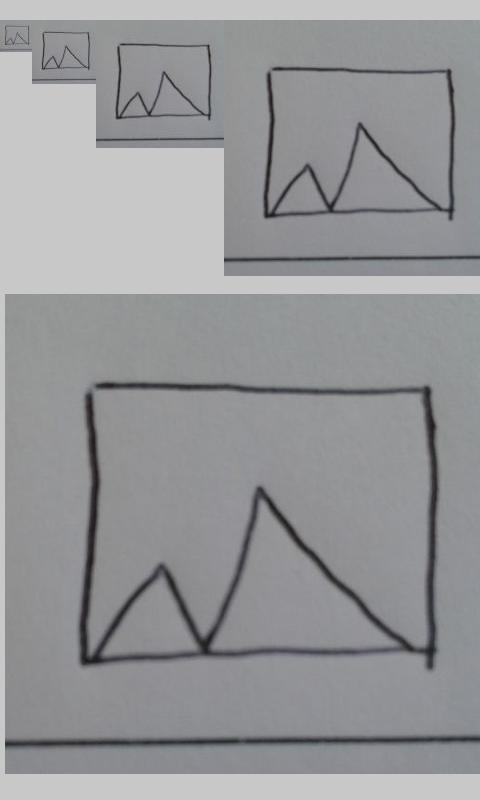image_view: (78, 379, 439, 667), (264, 66, 455, 218), (115, 42, 213, 120), (41, 31, 90, 70), (4, 25, 30, 46)
